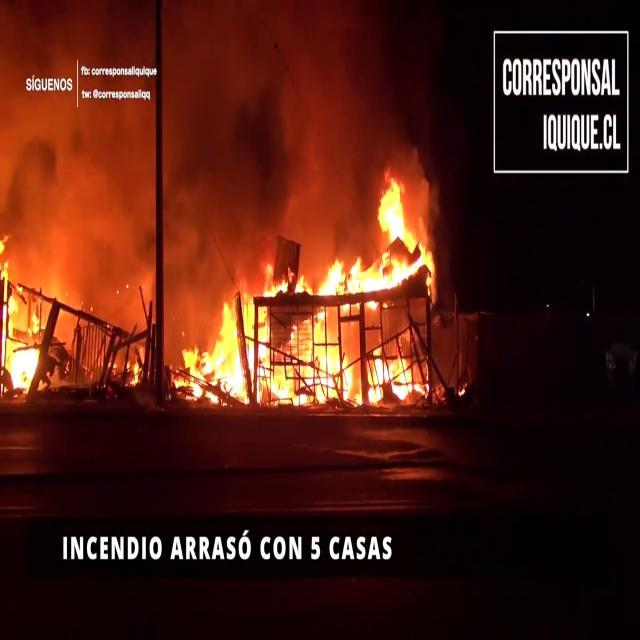Fire: (177, 254, 429, 412), (312, 176, 436, 300), (0, 235, 48, 397)
Smoke: (0, 1, 424, 255)
